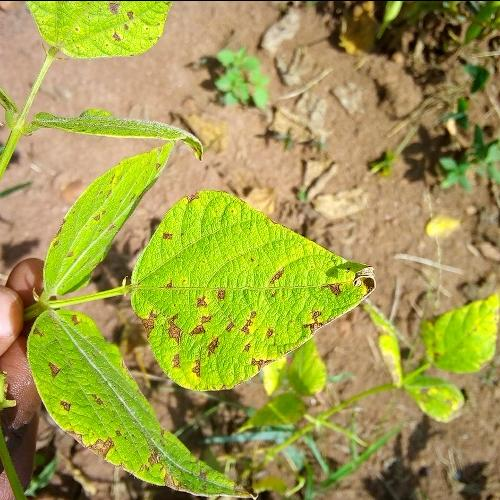hawar: (126, 260, 358, 382)
